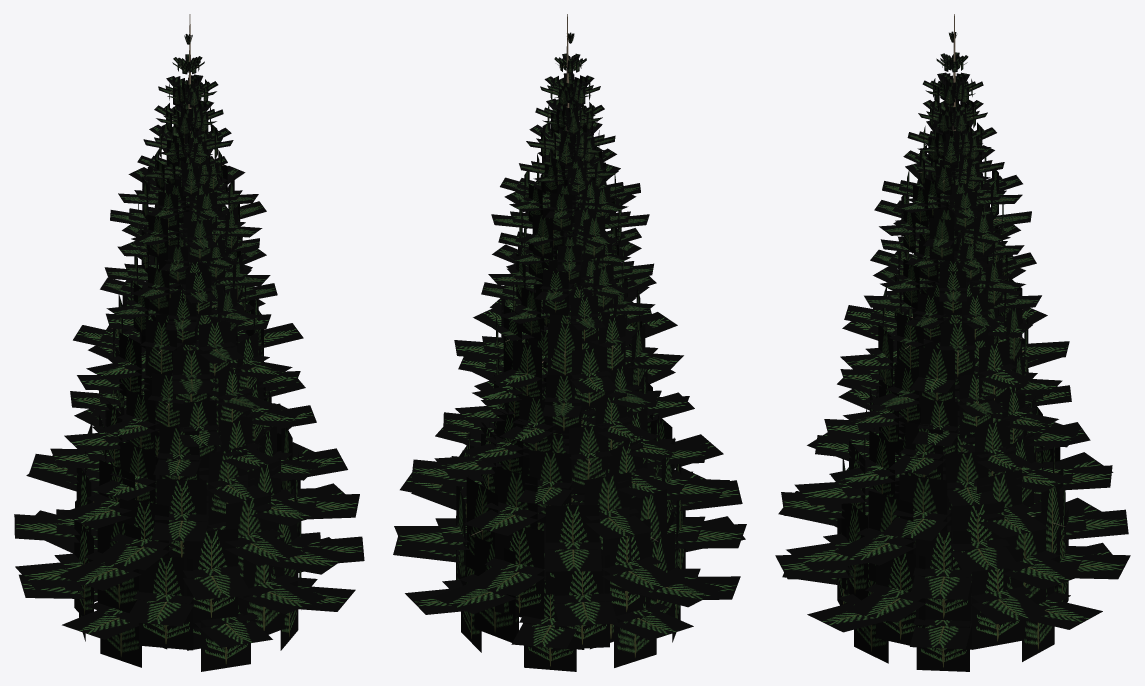
The model's file is Fir_1_LOD0.glb.
The picture shows the model from 3 angles, left to right: view 1: azimuth 30°, elevation 25°; view 2: azimuth 150°, elevation 25°; view 3: azimuth 270°, elevation 25°; orthographic projection.
Visible parts, largest first — view 1: Fir_1_LOD0; view 2: Fir_1_LOD0; view 3: Fir_1_LOD0.
Part boxes in pixels (box(x1,y1,x2,y2)): Fir_1_LOD0: box(14, 14, 364, 671); Fir_1_LOD0: box(393, 14, 746, 671); Fir_1_LOD0: box(775, 14, 1130, 671).
Size of the model in its own units: 13.38 by 25.68 by 13.43.
2 materials, 1 textured.
